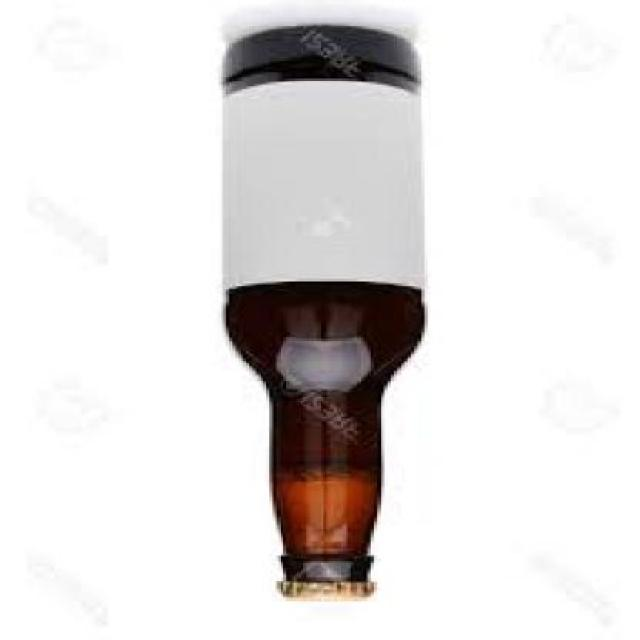GLASS: (219, 26, 418, 583)
METAL: (269, 582, 368, 607)
